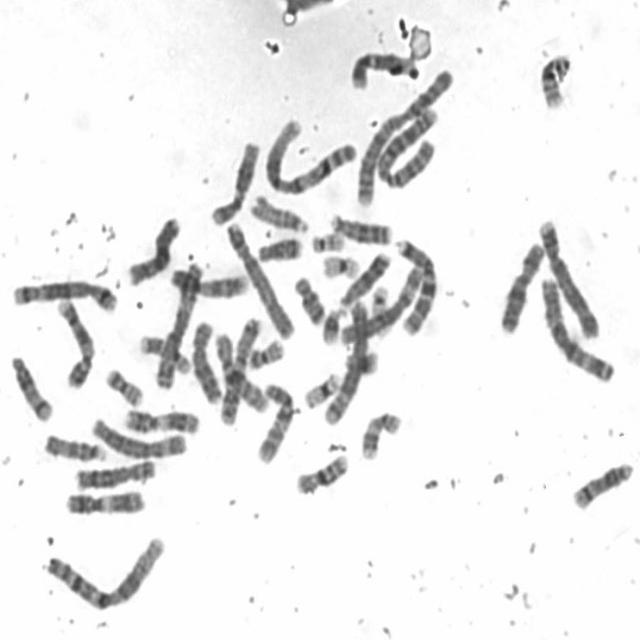A1: (41, 531, 168, 612), (261, 114, 356, 198)
A2: (352, 65, 455, 208), (373, 104, 440, 191)
A3: (538, 274, 615, 383), (152, 257, 204, 391)
B4: (223, 218, 297, 341), (534, 213, 601, 339)
B5: (321, 297, 372, 425), (10, 277, 119, 314)
C10: (212, 327, 269, 415), (253, 378, 296, 466)
C11: (122, 404, 201, 436), (63, 487, 147, 517)
C12: (207, 136, 262, 227), (348, 47, 418, 92)
C6: (336, 264, 426, 347), (89, 412, 188, 460)
C7: (391, 235, 440, 338), (212, 327, 269, 415)
C8: (71, 455, 157, 492), (188, 317, 223, 405)
C9: (53, 296, 96, 391), (166, 264, 250, 301)
D13: (334, 248, 392, 310), (327, 210, 393, 247)
D14: (568, 458, 635, 510), (9, 352, 54, 423)
D15: (248, 192, 310, 234), (41, 430, 108, 464)
E16: (292, 450, 350, 497), (536, 49, 574, 110)
E17: (136, 332, 192, 377), (357, 408, 403, 462)
E18: (291, 272, 326, 326), (254, 234, 304, 264)
F19: (301, 369, 342, 411), (318, 252, 362, 282)
F20: (102, 364, 146, 408), (246, 336, 286, 371)
G21: (319, 302, 346, 346), (344, 352, 379, 376)
G22: (372, 284, 391, 338), (309, 228, 346, 254)
X: (496, 238, 546, 336), (124, 212, 182, 286)
